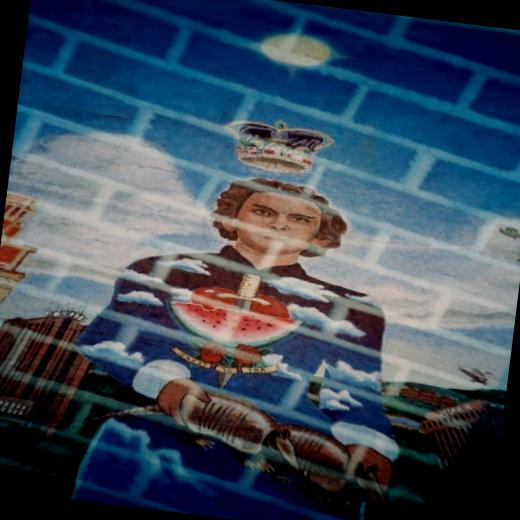Cherry: (161, 300, 300, 356)
